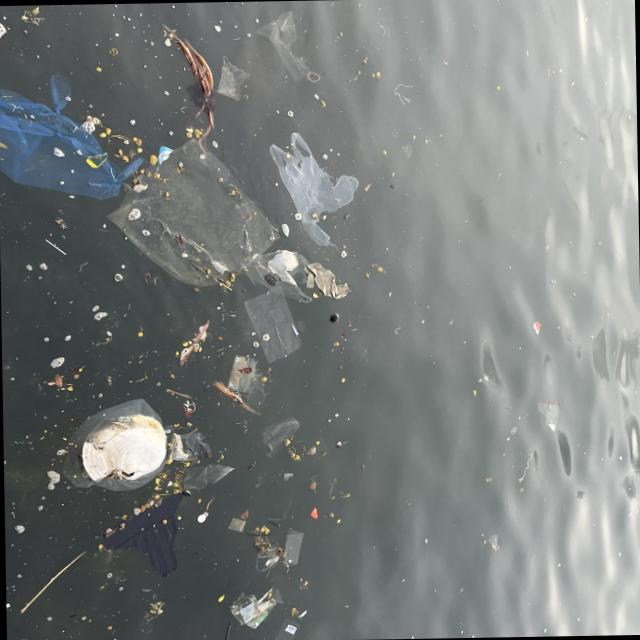foam: (81, 429, 165, 482)
plastic bag: (1, 84, 139, 204), (270, 131, 363, 245)
